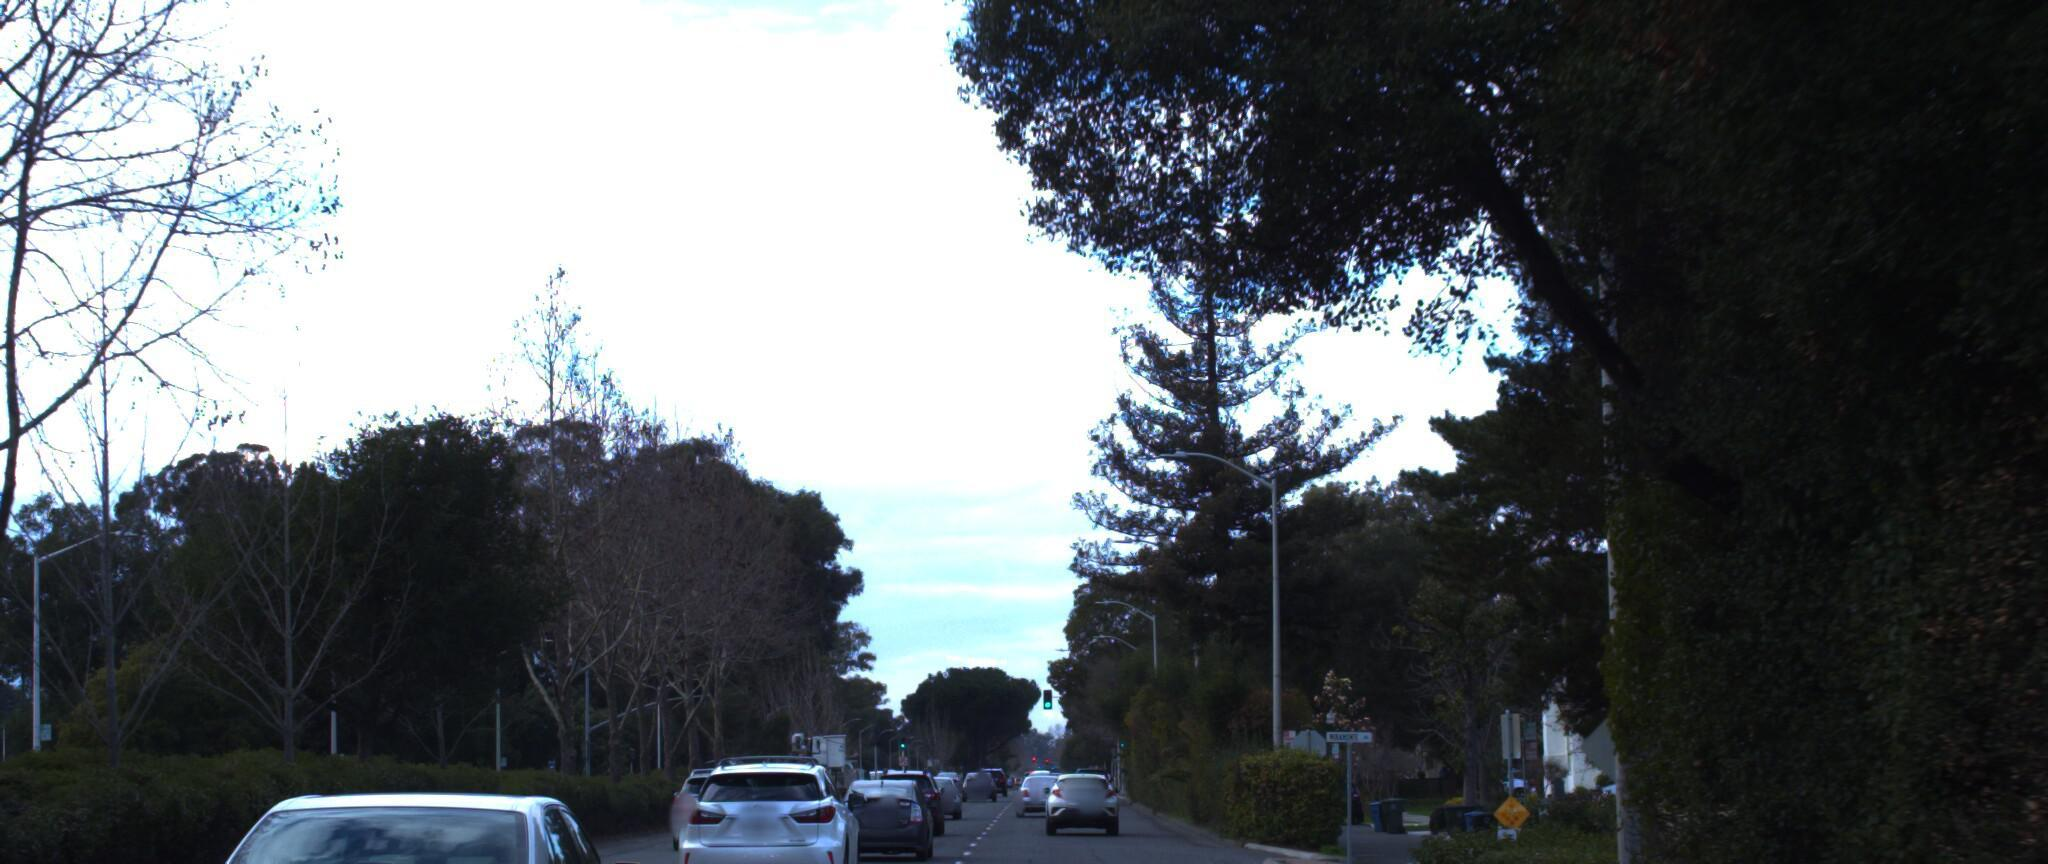car: (150, 715, 671, 864), (666, 747, 857, 864), (822, 771, 936, 861), (657, 764, 764, 844), (1040, 758, 1125, 829)
